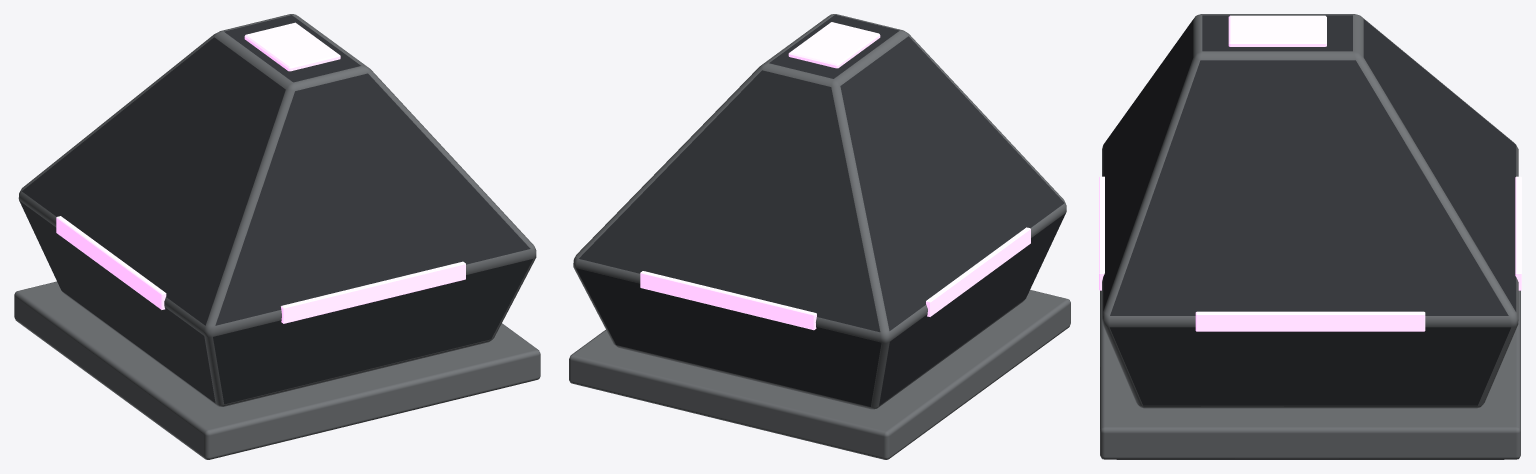
Rendered from R4X_Stealth.fbx.
3 renders of one model, left to right at view 1: azimuth 30°, elevation 25°; view 2: azimuth 150°, elevation 25°; view 3: azimuth 270°, elevation 25°, orthographic. The views are drawn at different scales.
Parts seen in each view (by area): view 1: R4X_Stealth_Body; view 2: R4X_Stealth_Body; view 3: R4X_Stealth_Body.
Boxes of the visible parts, <box> form: R4X_Stealth_Body: <box>14,14,540,459</box>; R4X_Stealth_Body: <box>569,14,1070,459</box>; R4X_Stealth_Body: <box>1099,14,1521,459</box>.
Size of the model in its own units: 0.516 by 0.466 by 0.516.
